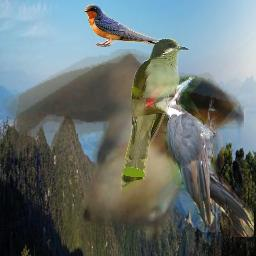Cuckoo: (120, 38, 189, 193)
Swallow: (3, 49, 244, 243), (82, 3, 158, 49)
Woodpecker: (144, 76, 254, 237)
